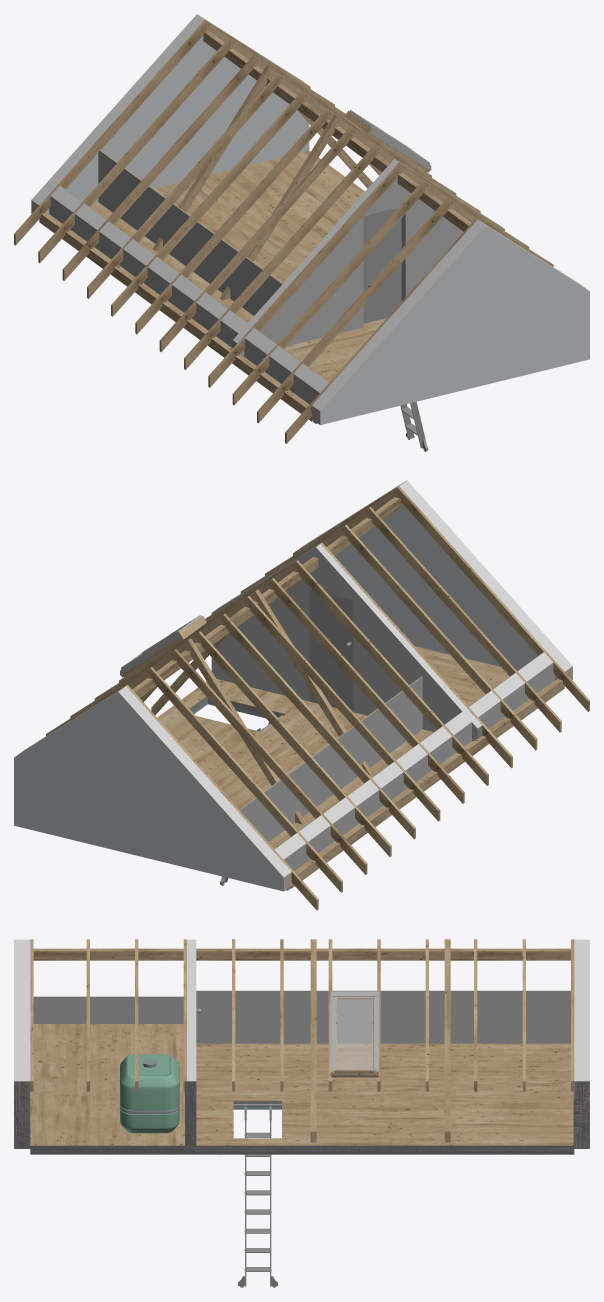
File: mini_loft_conversion.glb
3 views of the same model, one above another, from view 1: azimuth 30°, elevation 25°; view 2: azimuth 150°, elevation 25°; view 3: azimuth 270°, elevation 25° (orthographic).
Parts seen in each view (by area): view 1: 3DSMeshMatrix (×27); view 2: 3DSMeshMatrix (×26); view 3: 3DSMeshMatrix (×26).
Boxes of the visible parts, left/top/right/bottom form: 3DSMeshMatrix (×27): left=14, top=14, right=589, bottom=451; 3DSMeshMatrix (×26): left=14, top=480, right=589, bottom=910; 3DSMeshMatrix (×26): left=14, top=939, right=589, bottom=1287.
Size of what is drawn, in the model's own units: 4.56 by 4.77 by 7.73.
Materials: 18 (2 with a texture image).
